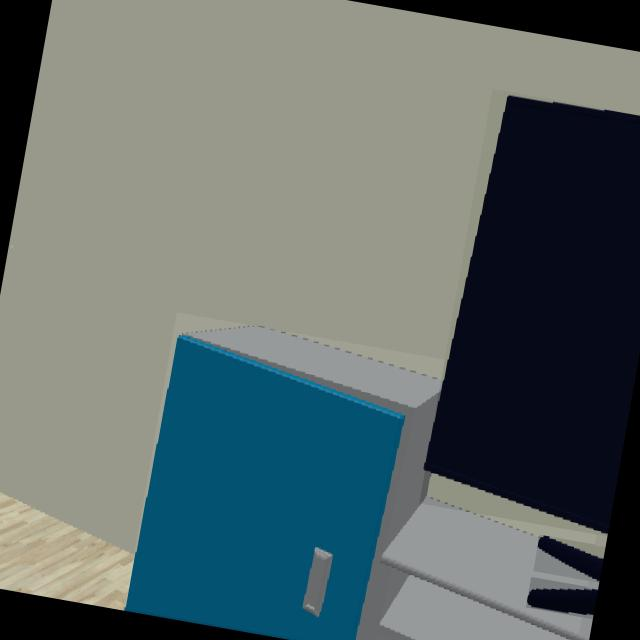cabinet: (124, 326, 588, 640)
monitor: (424, 97, 640, 536), (537, 536, 603, 582), (526, 588, 597, 616)
